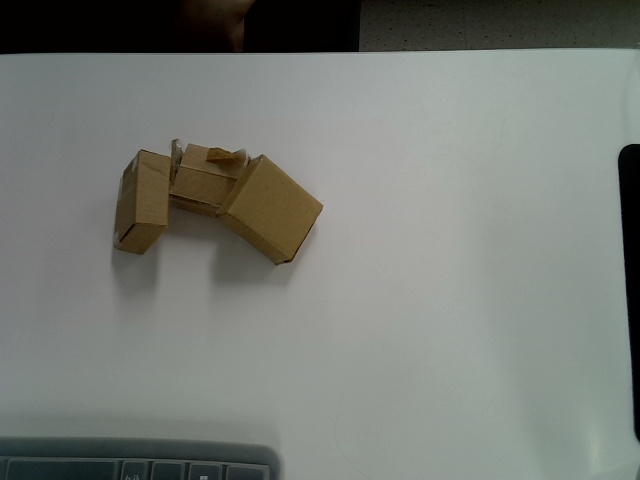defect: (168, 138, 251, 218)
normal: (216, 155, 324, 266), (112, 149, 172, 256)
